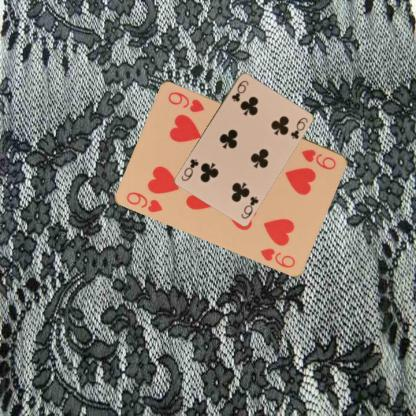6c: (228, 77, 249, 103), (239, 194, 260, 220)
9h: (124, 189, 164, 214), (299, 146, 338, 171)
